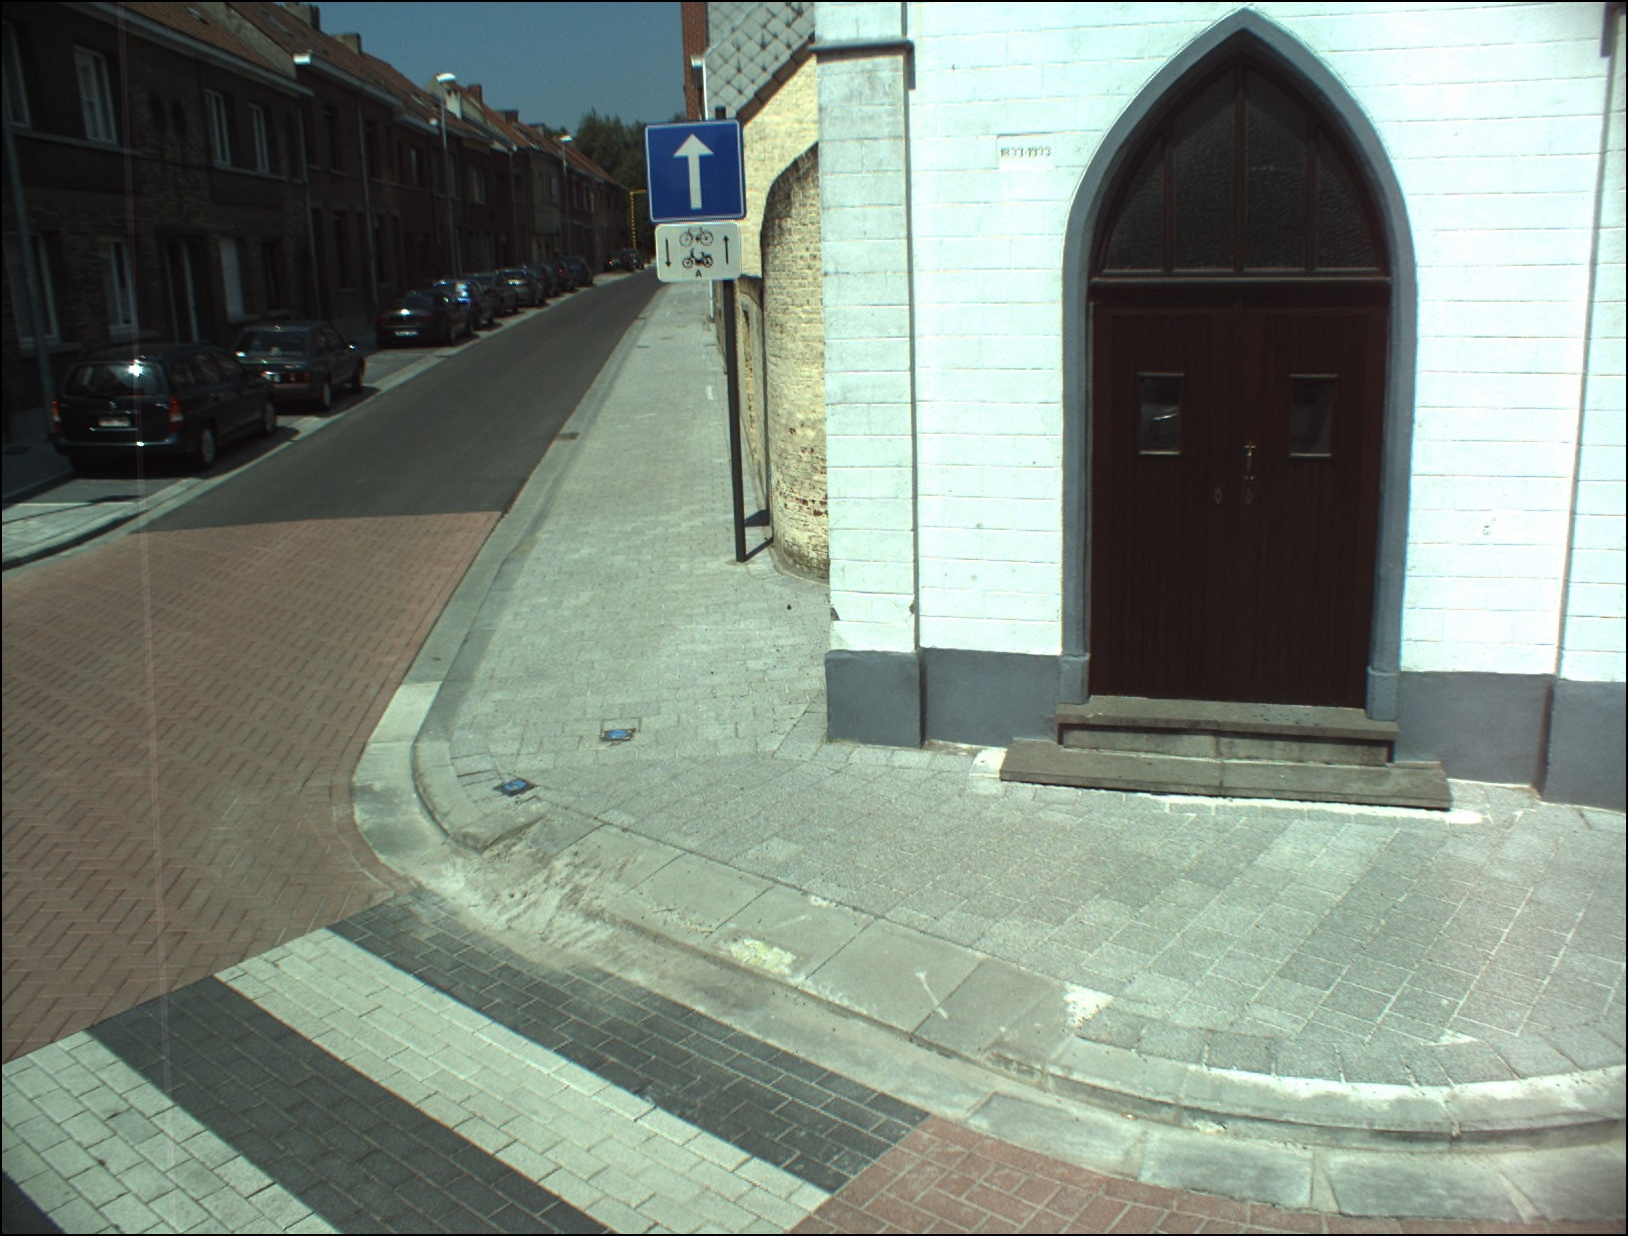oneway: (645, 125, 744, 221)
